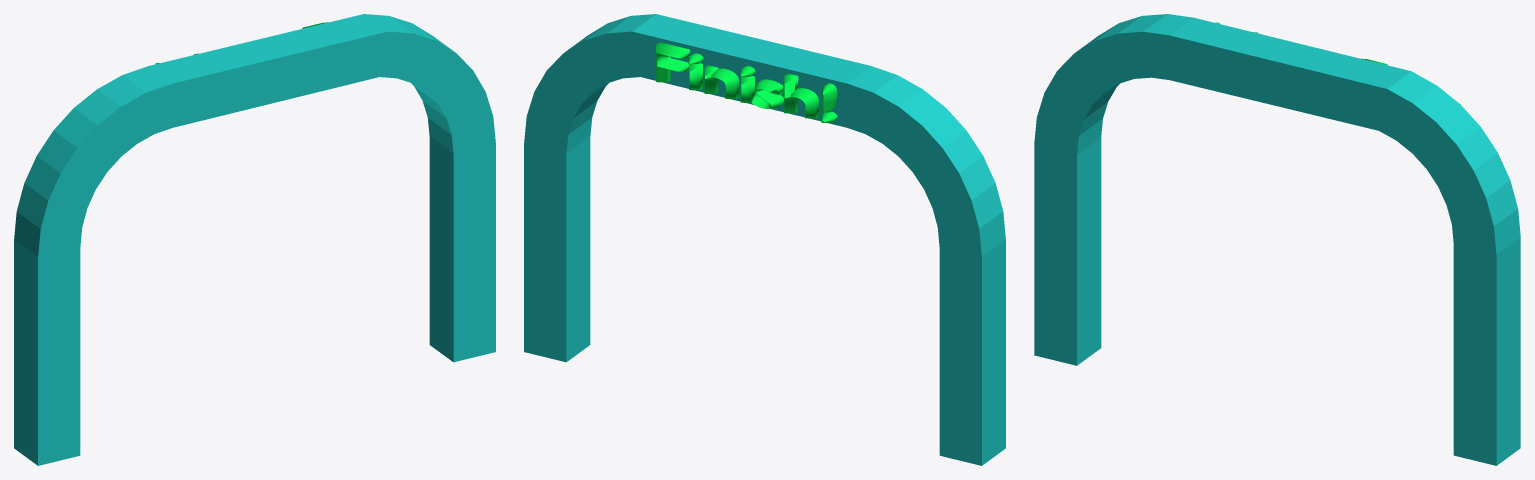
The model's file is finish.fbx.
3 views of the same model, side by side, from view 1: azimuth 30°, elevation 25°; view 2: azimuth 150°, elevation 25°; view 3: azimuth 330°, elevation 25° (orthographic).
Parts seen in each view (by area): view 1: Circle; view 2: Circle, Text; view 3: Circle.
Boxes of the visible parts, x1,y1,x2,y2 form: Circle: [14, 14, 495, 465]; Circle: [524, 14, 1005, 465]; Text: [656, 42, 837, 122]; Circle: [1034, 14, 1520, 465].
Size of the model in its own units: 3.41 by 2.49 by 0.4211.
